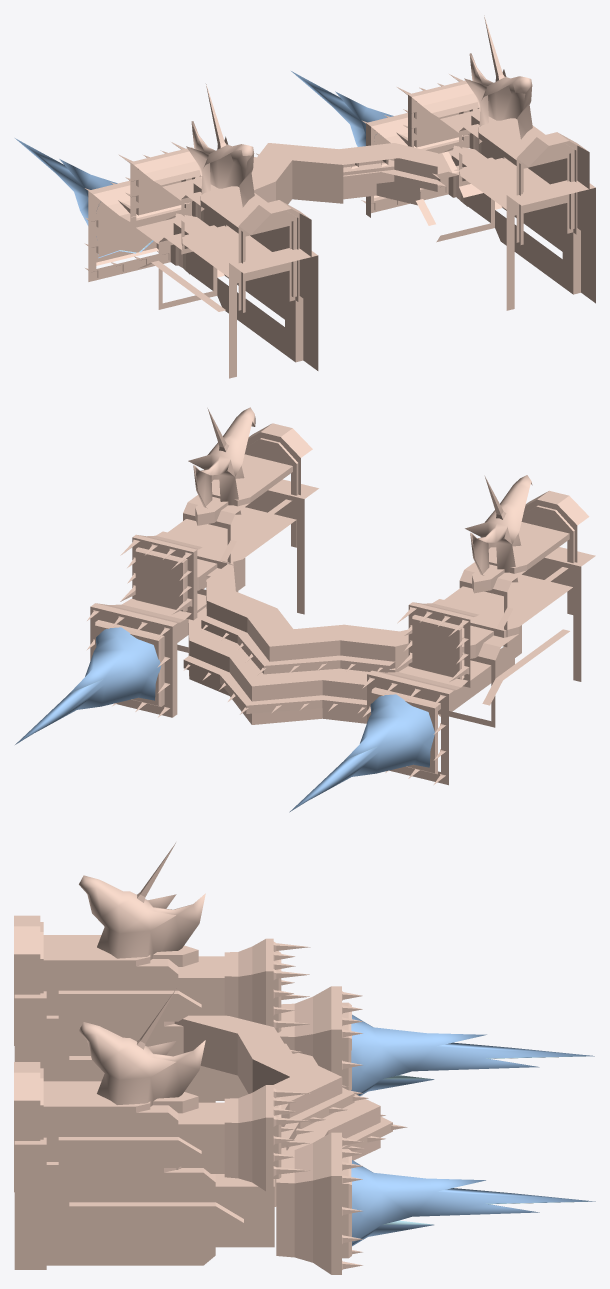
The picture shows the model from 3 angles, top to bottom: view 1: azimuth 30°, elevation 25°; view 2: azimuth 150°, elevation 25°; view 3: azimuth 270°, elevation 25°; orthographic projection. The views are drawn at different scales.
Parts seen in each view (by area): view 1: Object111; view 2: Object111; view 3: Object111.
Part boxes in pixels (bbox=[...]): Object111: bbox=[15, 15, 595, 378]; Object111: bbox=[15, 407, 595, 812]; Object111: bbox=[14, 843, 595, 1274].
Size of the model in its own units: 33835 by 22072 by 43845.
